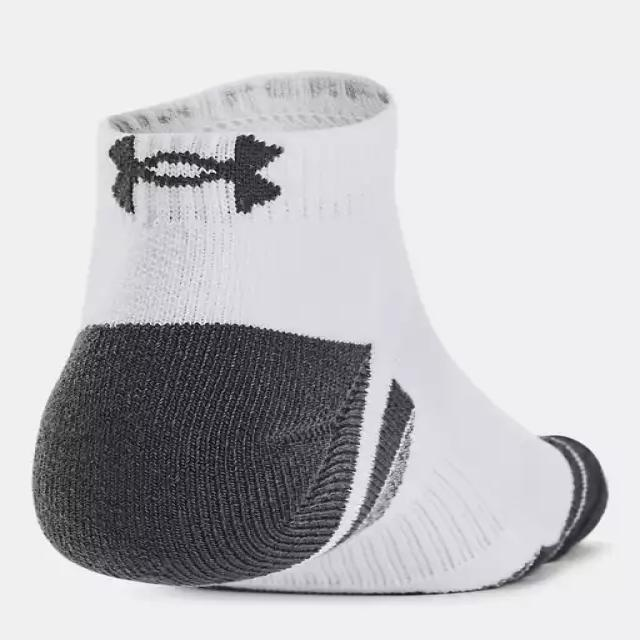sock: (31, 69, 609, 594)
